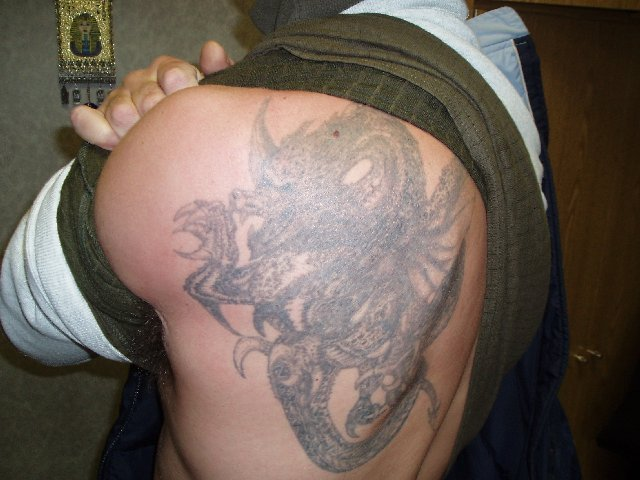tatu6_drakon: (155, 78, 499, 460)
